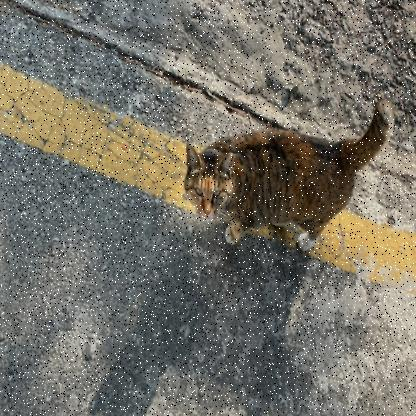cat: (177, 60, 397, 268)
